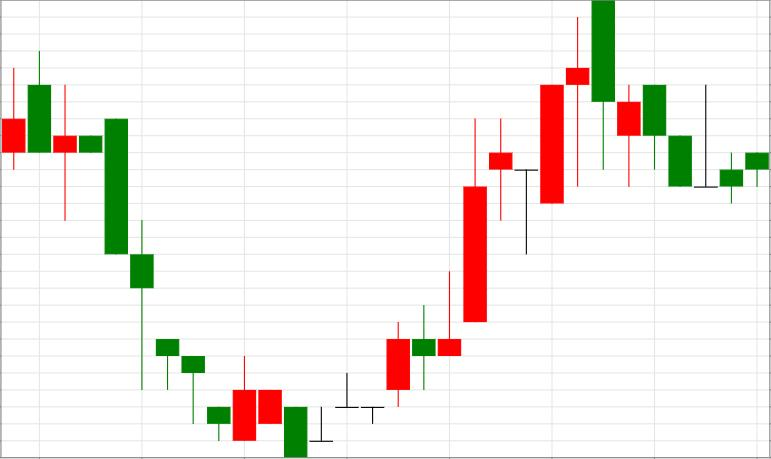bullish_engulfing_rise: (80, 118, 256, 441)
